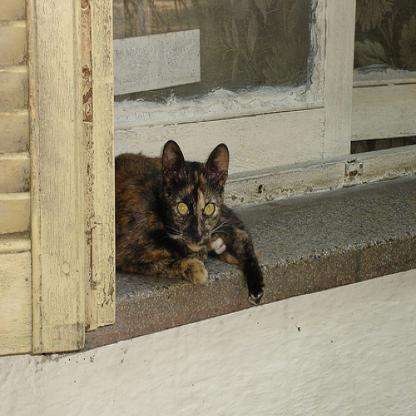cat: (114, 137, 264, 305)
